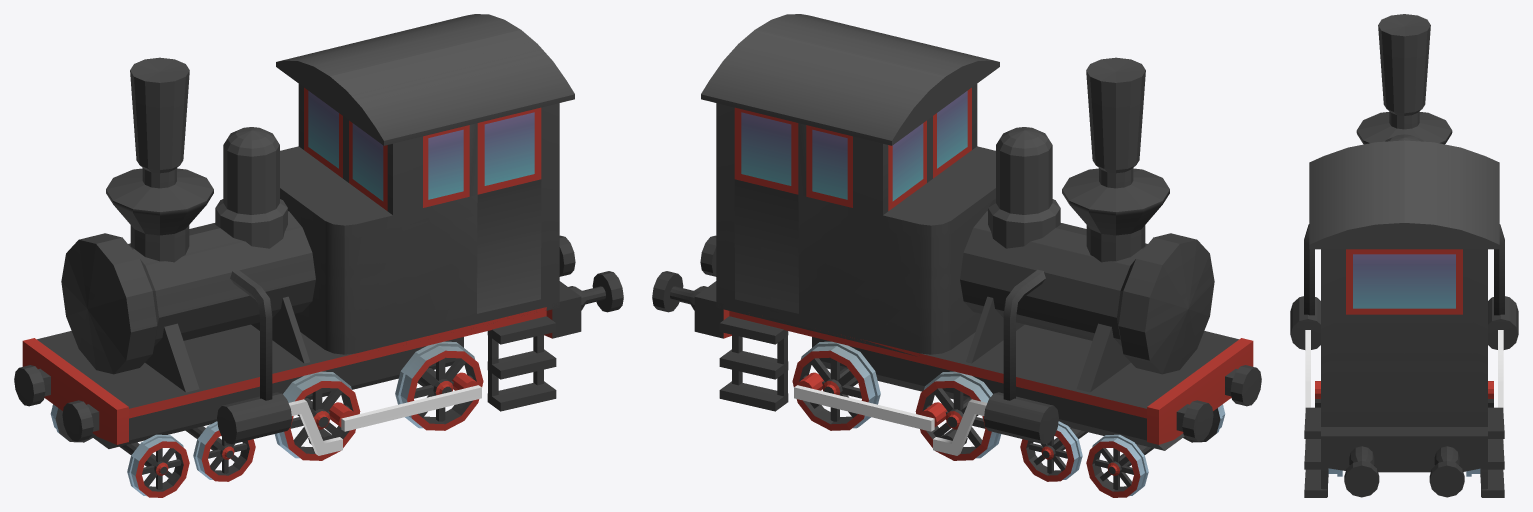
Rendered from OldTrain.fbx.
3 views of the same model, side by side, from view 1: azimuth 30°, elevation 25°; view 2: azimuth 150°, elevation 25°; view 3: azimuth 270°, elevation 25° (orthographic). The views are drawn at different scales.
Parts seen in each view (by area): view 1: OldTrain; view 2: OldTrain; view 3: OldTrain.
Boxes of the visible parts, x1=… form: OldTrain: x1=14, y1=14, x2=623, y2=497; OldTrain: x1=652, y1=14, x2=1261, y2=497; OldTrain: x1=1290, y1=14, x2=1518, y2=497.
Size of the model in its own units: 0.1368 by 0.094 by 0.0565.
Materials: 1 (1 with a texture image).
